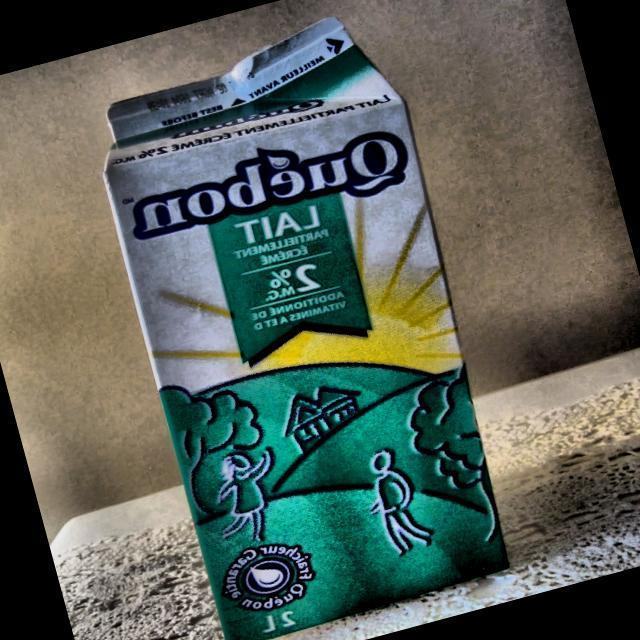cardboard: (74, 5, 530, 640)
